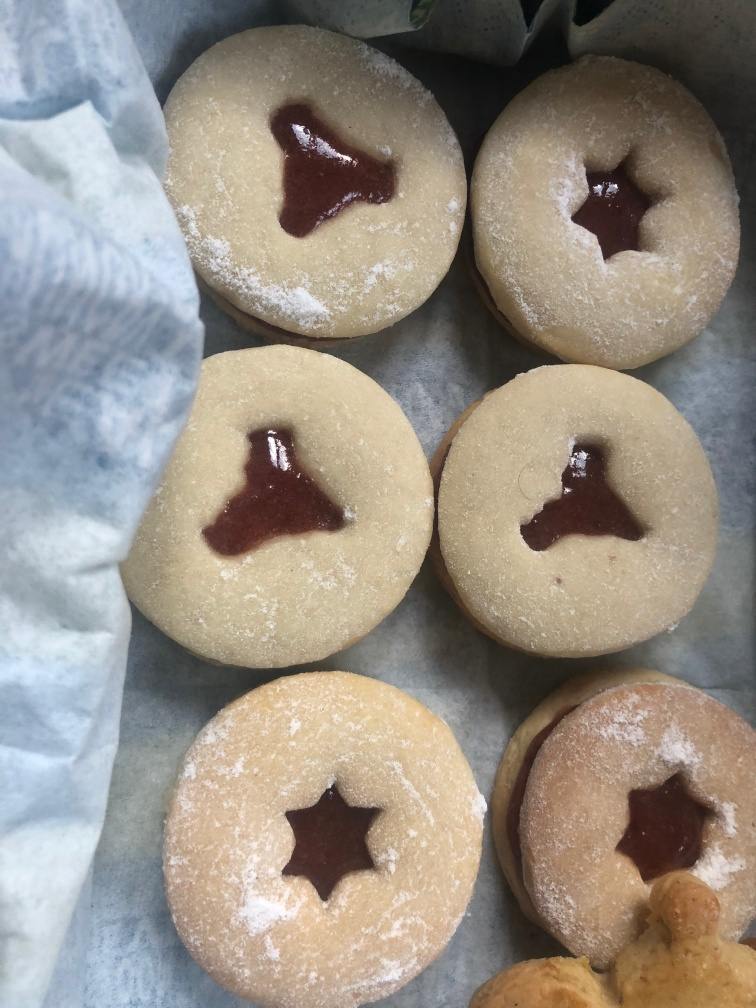christmas shortbread with jam: (164, 671, 487, 1007), (121, 346, 435, 667), (159, 20, 463, 329), (441, 362, 722, 663), (477, 56, 746, 366), (495, 671, 755, 939)
